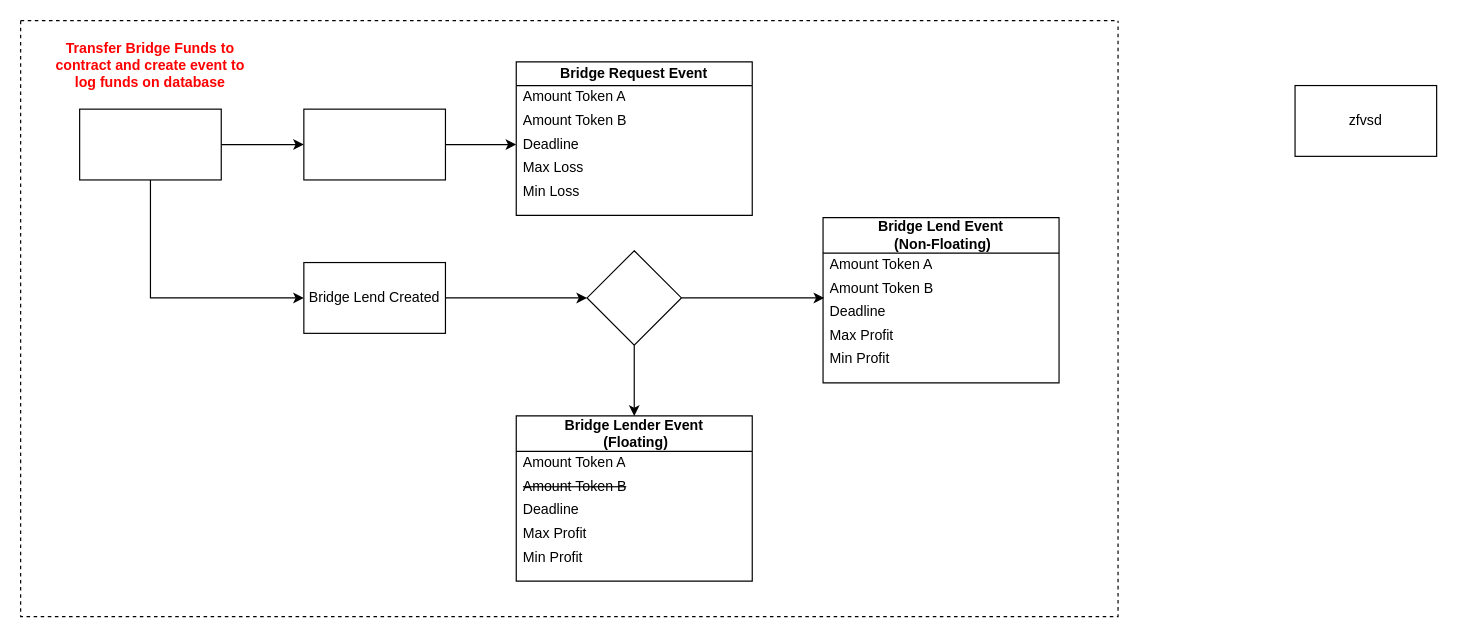
Some shapes in this 1457 by 637 pixel diagram are drawn without their labels. The shapes that lost their labels are listed below. From the top down, each one's centre as x and y in pixels, then its label:
the point at 149,144: Stored Bridge Job in Paid or Free Tier
the point at 374,144: Bridge Request Created
the point at 633,297: Price Floats
